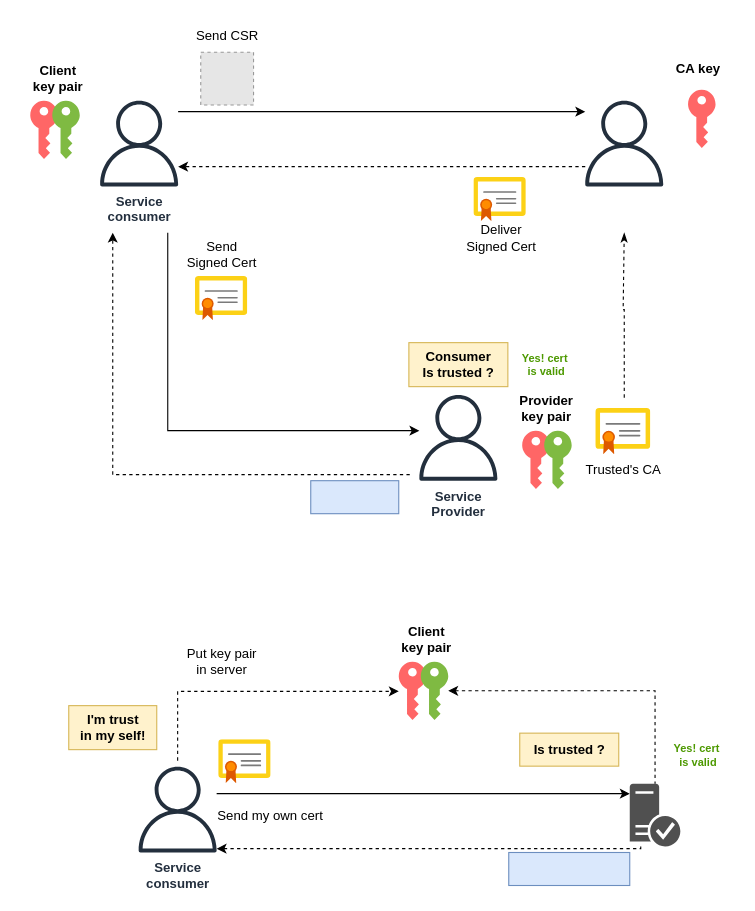
Image size: 755x911. Some labels were removed from this diagram. Grey dashed boxes stand in for pictures. The shapes that lost their labels are listed below. From the top down, each one's box as (x1, y1, x2, y2) in pixels, then its label:
(581, 100, 667, 186): Certificate Authority (CA)
(310, 480, 399, 514): Welcome
(508, 851, 630, 886): Welcome back!
